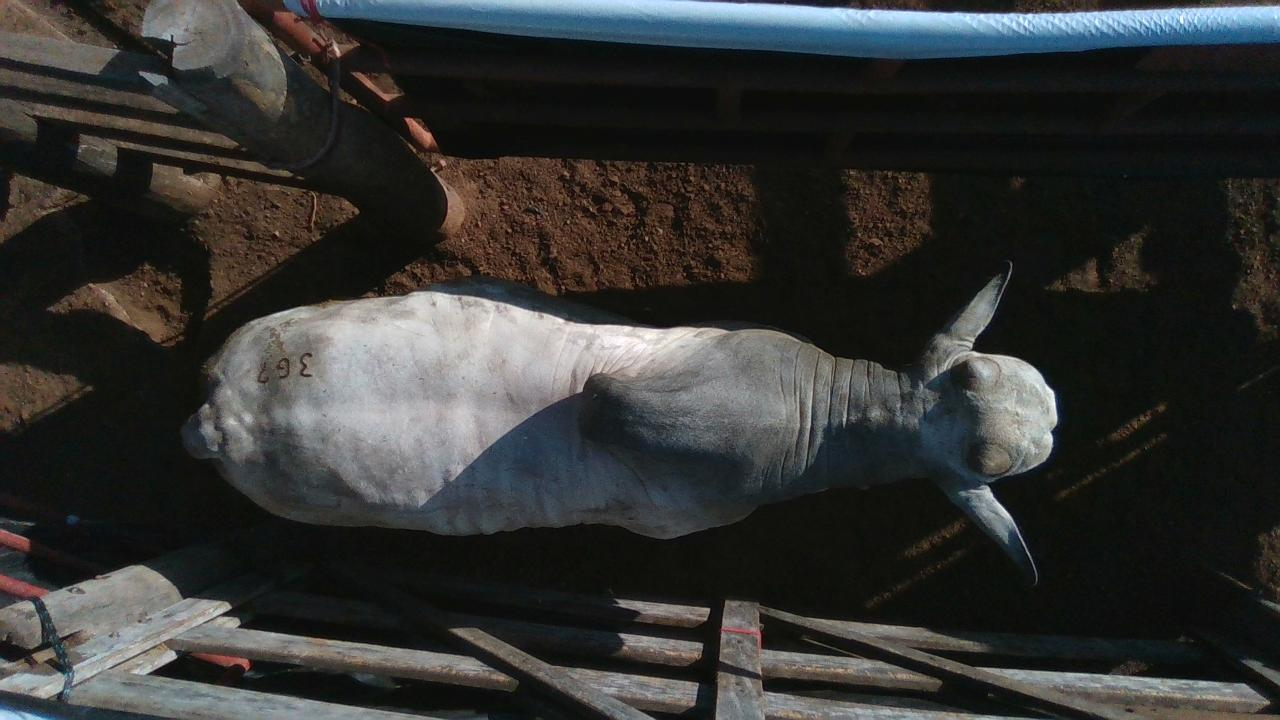cattle: (179, 258, 1060, 588)
